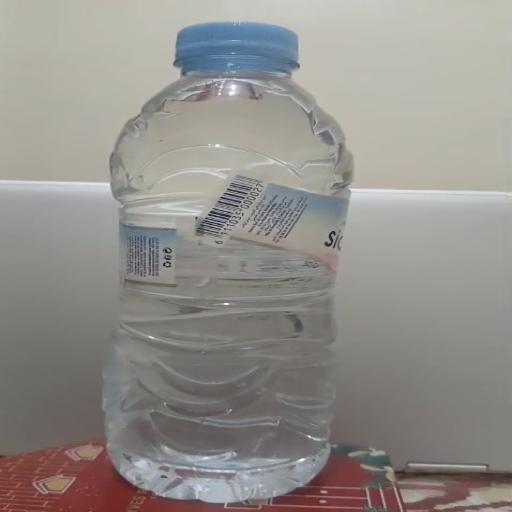bouteille conformite: (72, 13, 440, 512)
